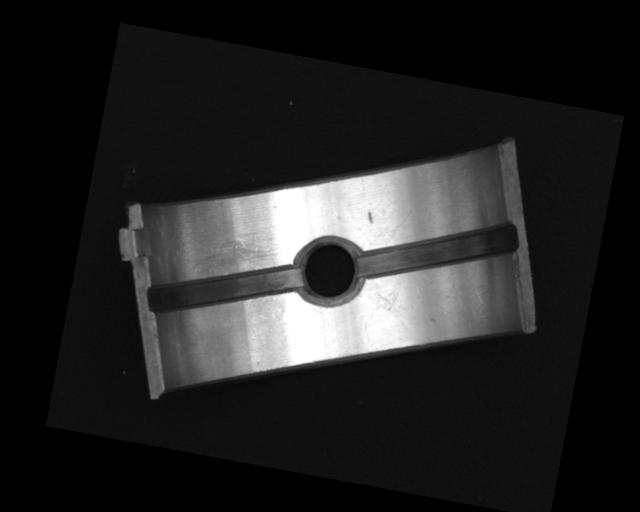bruise: (364, 209, 375, 225)
gap: (355, 196, 519, 304), (144, 243, 303, 338)
hole: (290, 231, 368, 311)
scratch: (184, 229, 279, 287)
